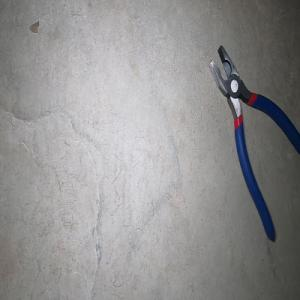Pliers: (208, 44, 300, 242)
